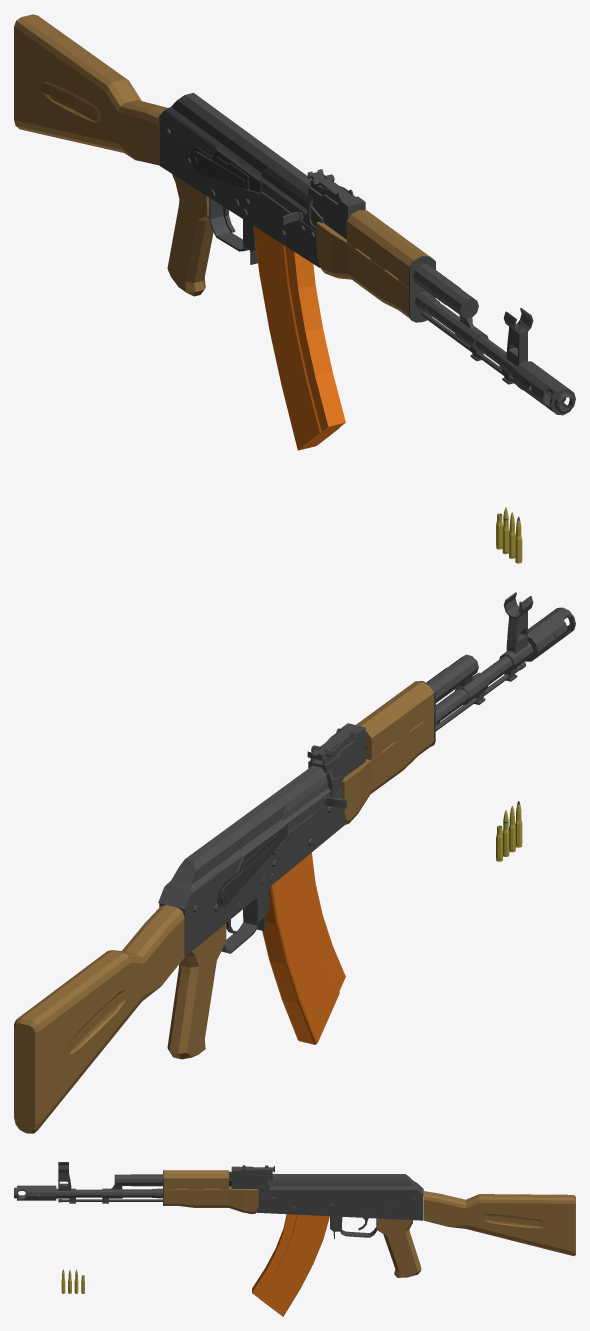
3 renders of one model, top to bottom at view 1: azimuth 30°, elevation 25°; view 2: azimuth 150°, elevation 25°; view 3: azimuth 270°, elevation 25°, orthographic. The views are drawn at different scales.
Visible parts, largest first — view 1: AK74N; view 2: AK74N; view 3: AK74N.
Part boxes in pixels (bbox=[...]): AK74N: bbox=[14, 14, 575, 450]; AK74N: bbox=[14, 592, 575, 1133]; AK74N: bbox=[14, 1162, 575, 1316].
Bounding box in the file's own units: 4.21 × 25.12 × 84.95.
